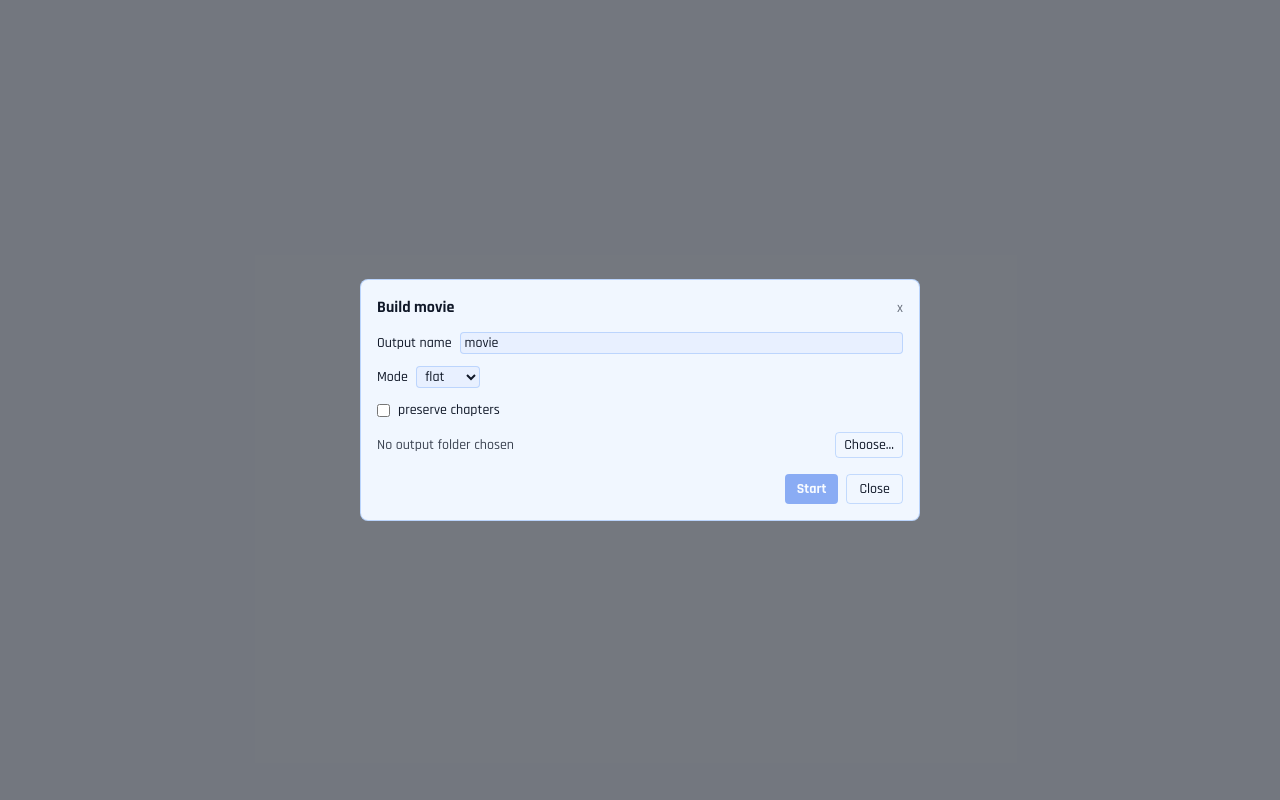
Test case: BuildModal › surfaces an inspect failure instead of leaving Start silently disabled
What coordinates should you click on to do the following:
click the button "Choose..."
I would click on:
 (869, 445)
Its box is [835,432,903,458].
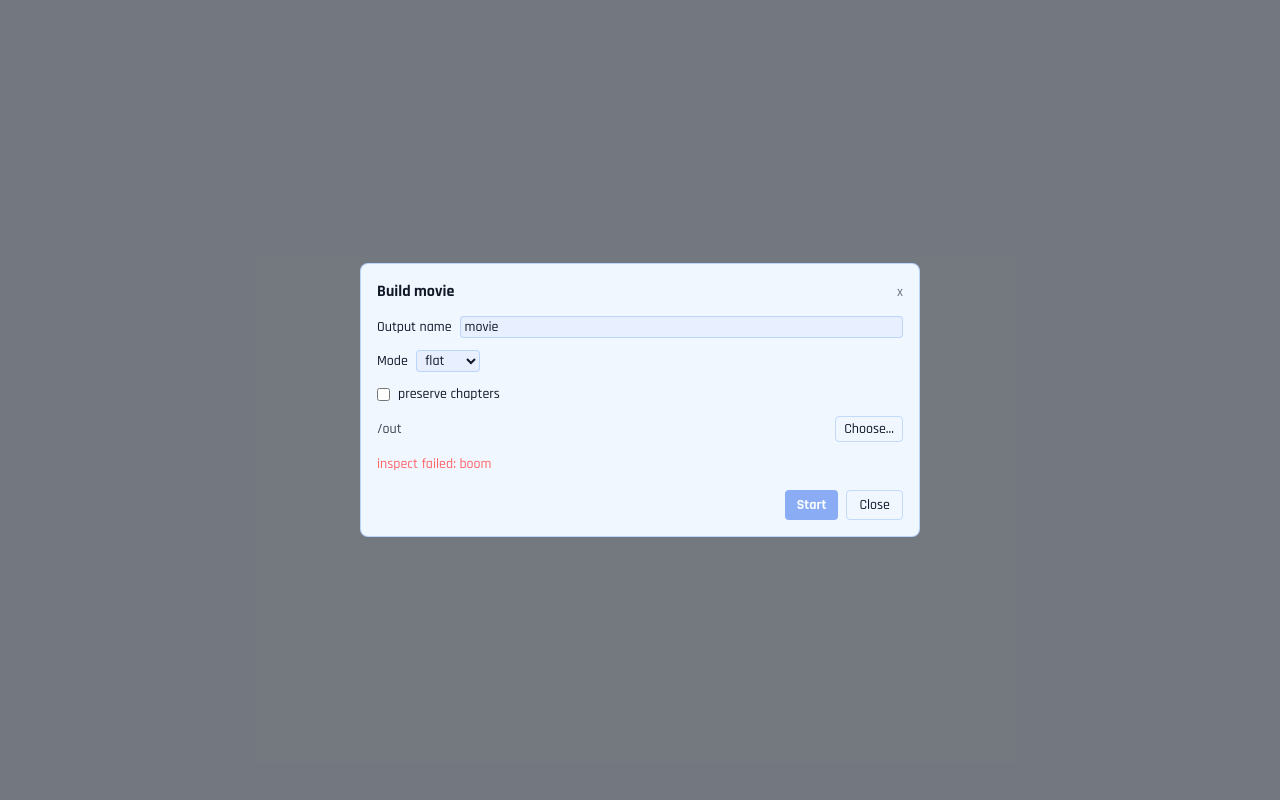
Check: the button "Start" is disabled, box [785,490,838,520]
Check: the text "inspect failed: boom" is shown, box [377,455,491,473]
